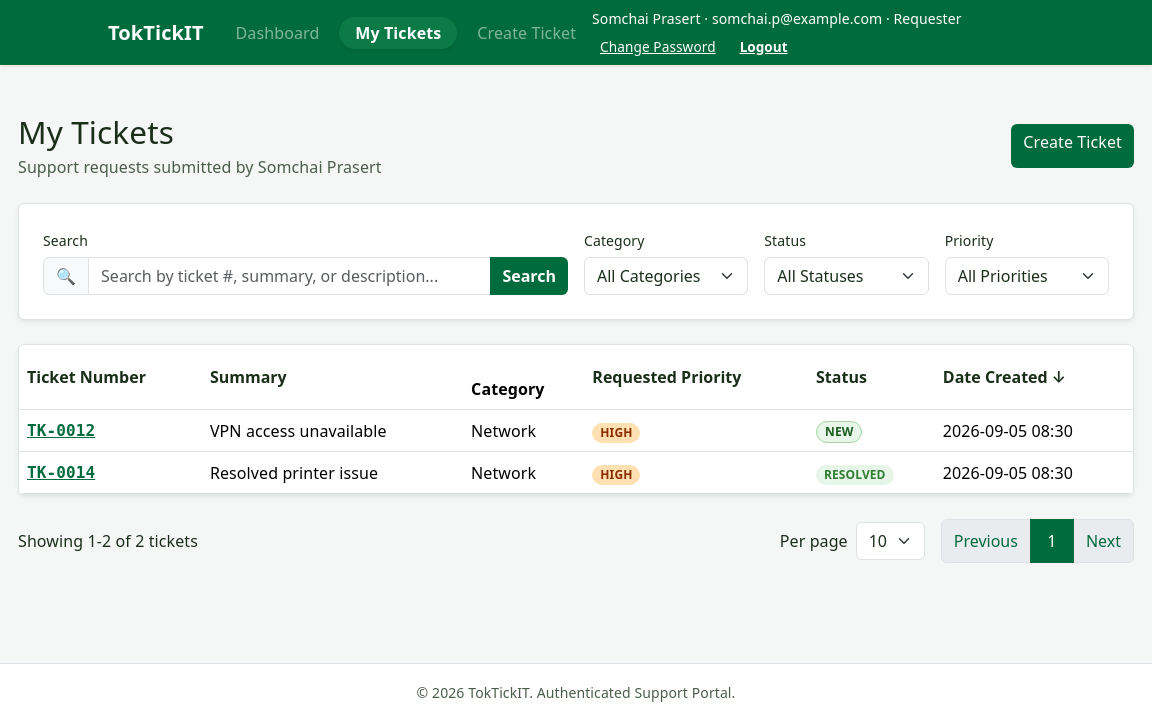
Test: My Tickets screen › renders only the status-filtered records returned by the API
Select "NEW" in the dropdown labelled "Status" at (846, 276), box [764,257,929,295]
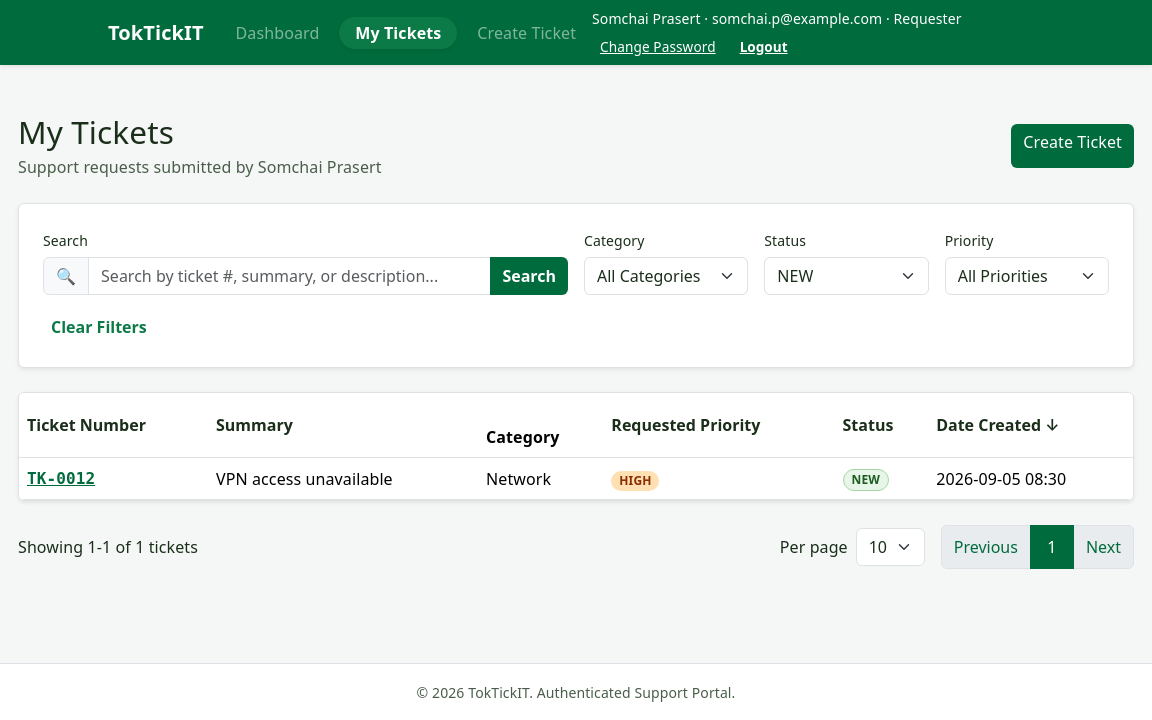
Expected: the row that starts with "TK-0012" shows "VPN access unavailable", [216,468,393,490]
Expected: the text "Resolved printer issue" is gone
